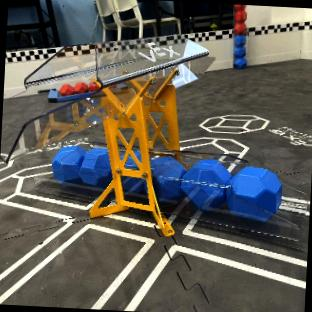V5_BLUE: (226, 167, 281, 221), (52, 146, 111, 188), (180, 158, 230, 207), (149, 156, 185, 198), (121, 176, 144, 192)
